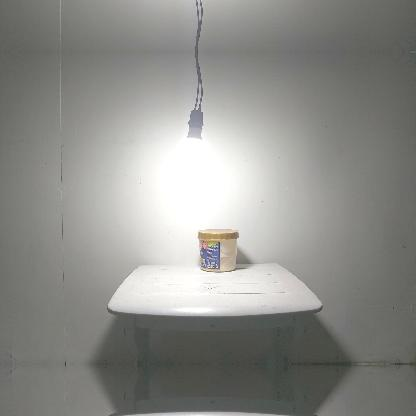Lady-s-Choice: (197, 228, 239, 272)
